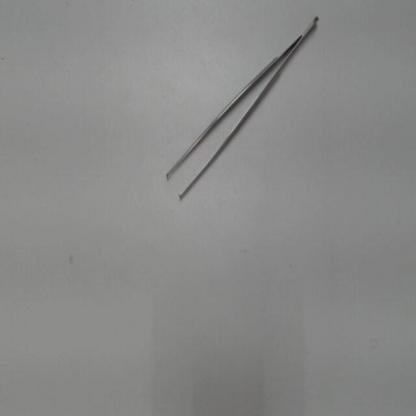Gillies Toothed Dissector: (157, 7, 326, 208)
